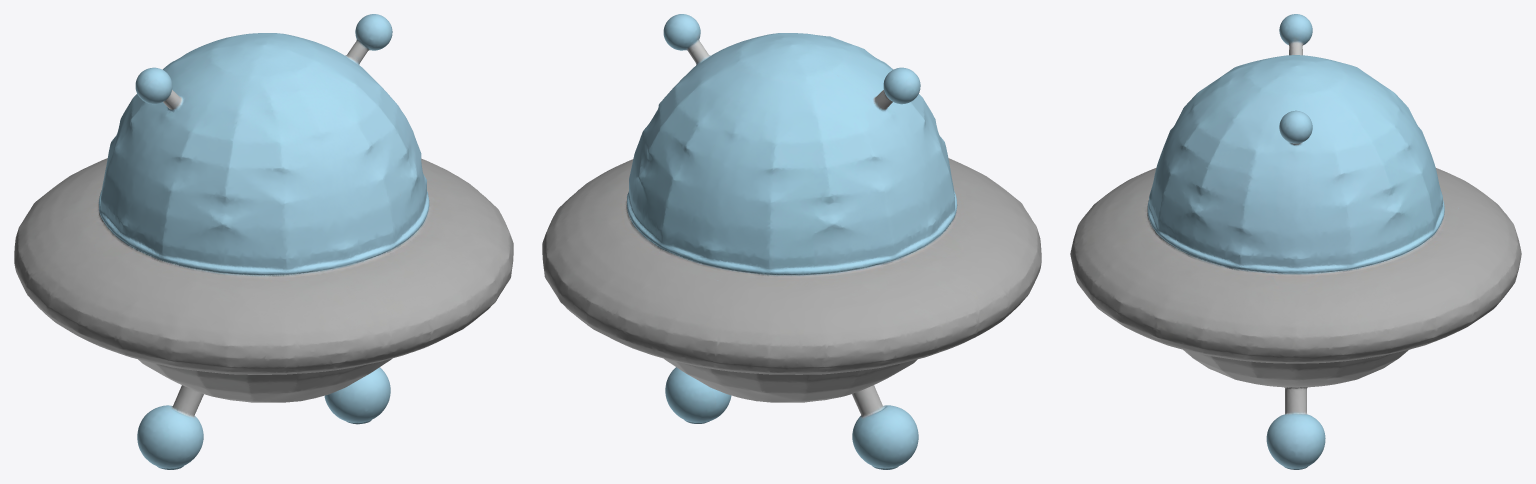
Rendered from Meshy_AI_Blue_Bubble_UFO_1015093404_texture.fbx.
3 renders of one model, left to right at view 1: azimuth 30°, elevation 25°; view 2: azimuth 150°, elevation 25°; view 3: azimuth 270°, elevation 25°, orthographic. The views are drawn at different scales.
Visible parts, largest first — view 1: Mesh_0; view 2: Mesh_0; view 3: Mesh_0.
Part boxes in pixels (<box>): Mesh_0: <box>14,14,513,469</box>; Mesh_0: <box>542,14,1041,469</box>; Mesh_0: <box>1070,14,1521,469</box>.
Bounding box in the file's own units: 190 × 167 × 190.
1 material, 1 textured.
